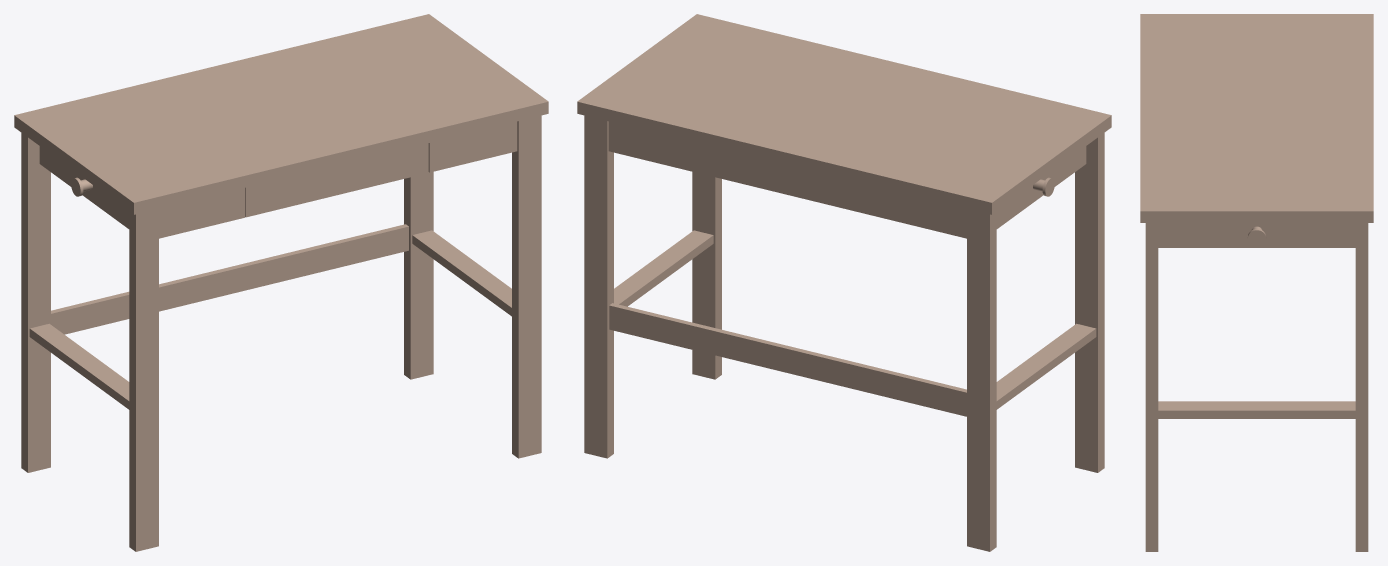
File: 496_デスク.glb
3 views of the same model, side by side, from view 1: azimuth 30°, elevation 25°; view 2: azimuth 150°, elevation 25°; view 3: azimuth 270°, elevation 25° (orthographic). The views are drawn at different scales.
Visible parts, largest first — view 1: body, hikidashi; view 2: body; view 3: body.
Part boxes in pixels (<box>): body: <box>14,14,548,551</box>; hikidashi: <box>245,143,428,217</box>; body: <box>577,14,1111,551</box>; body: <box>1140,14,1373,551</box>.
Bounding box in the file's own units: 0.9 × 0.73 × 0.45.
